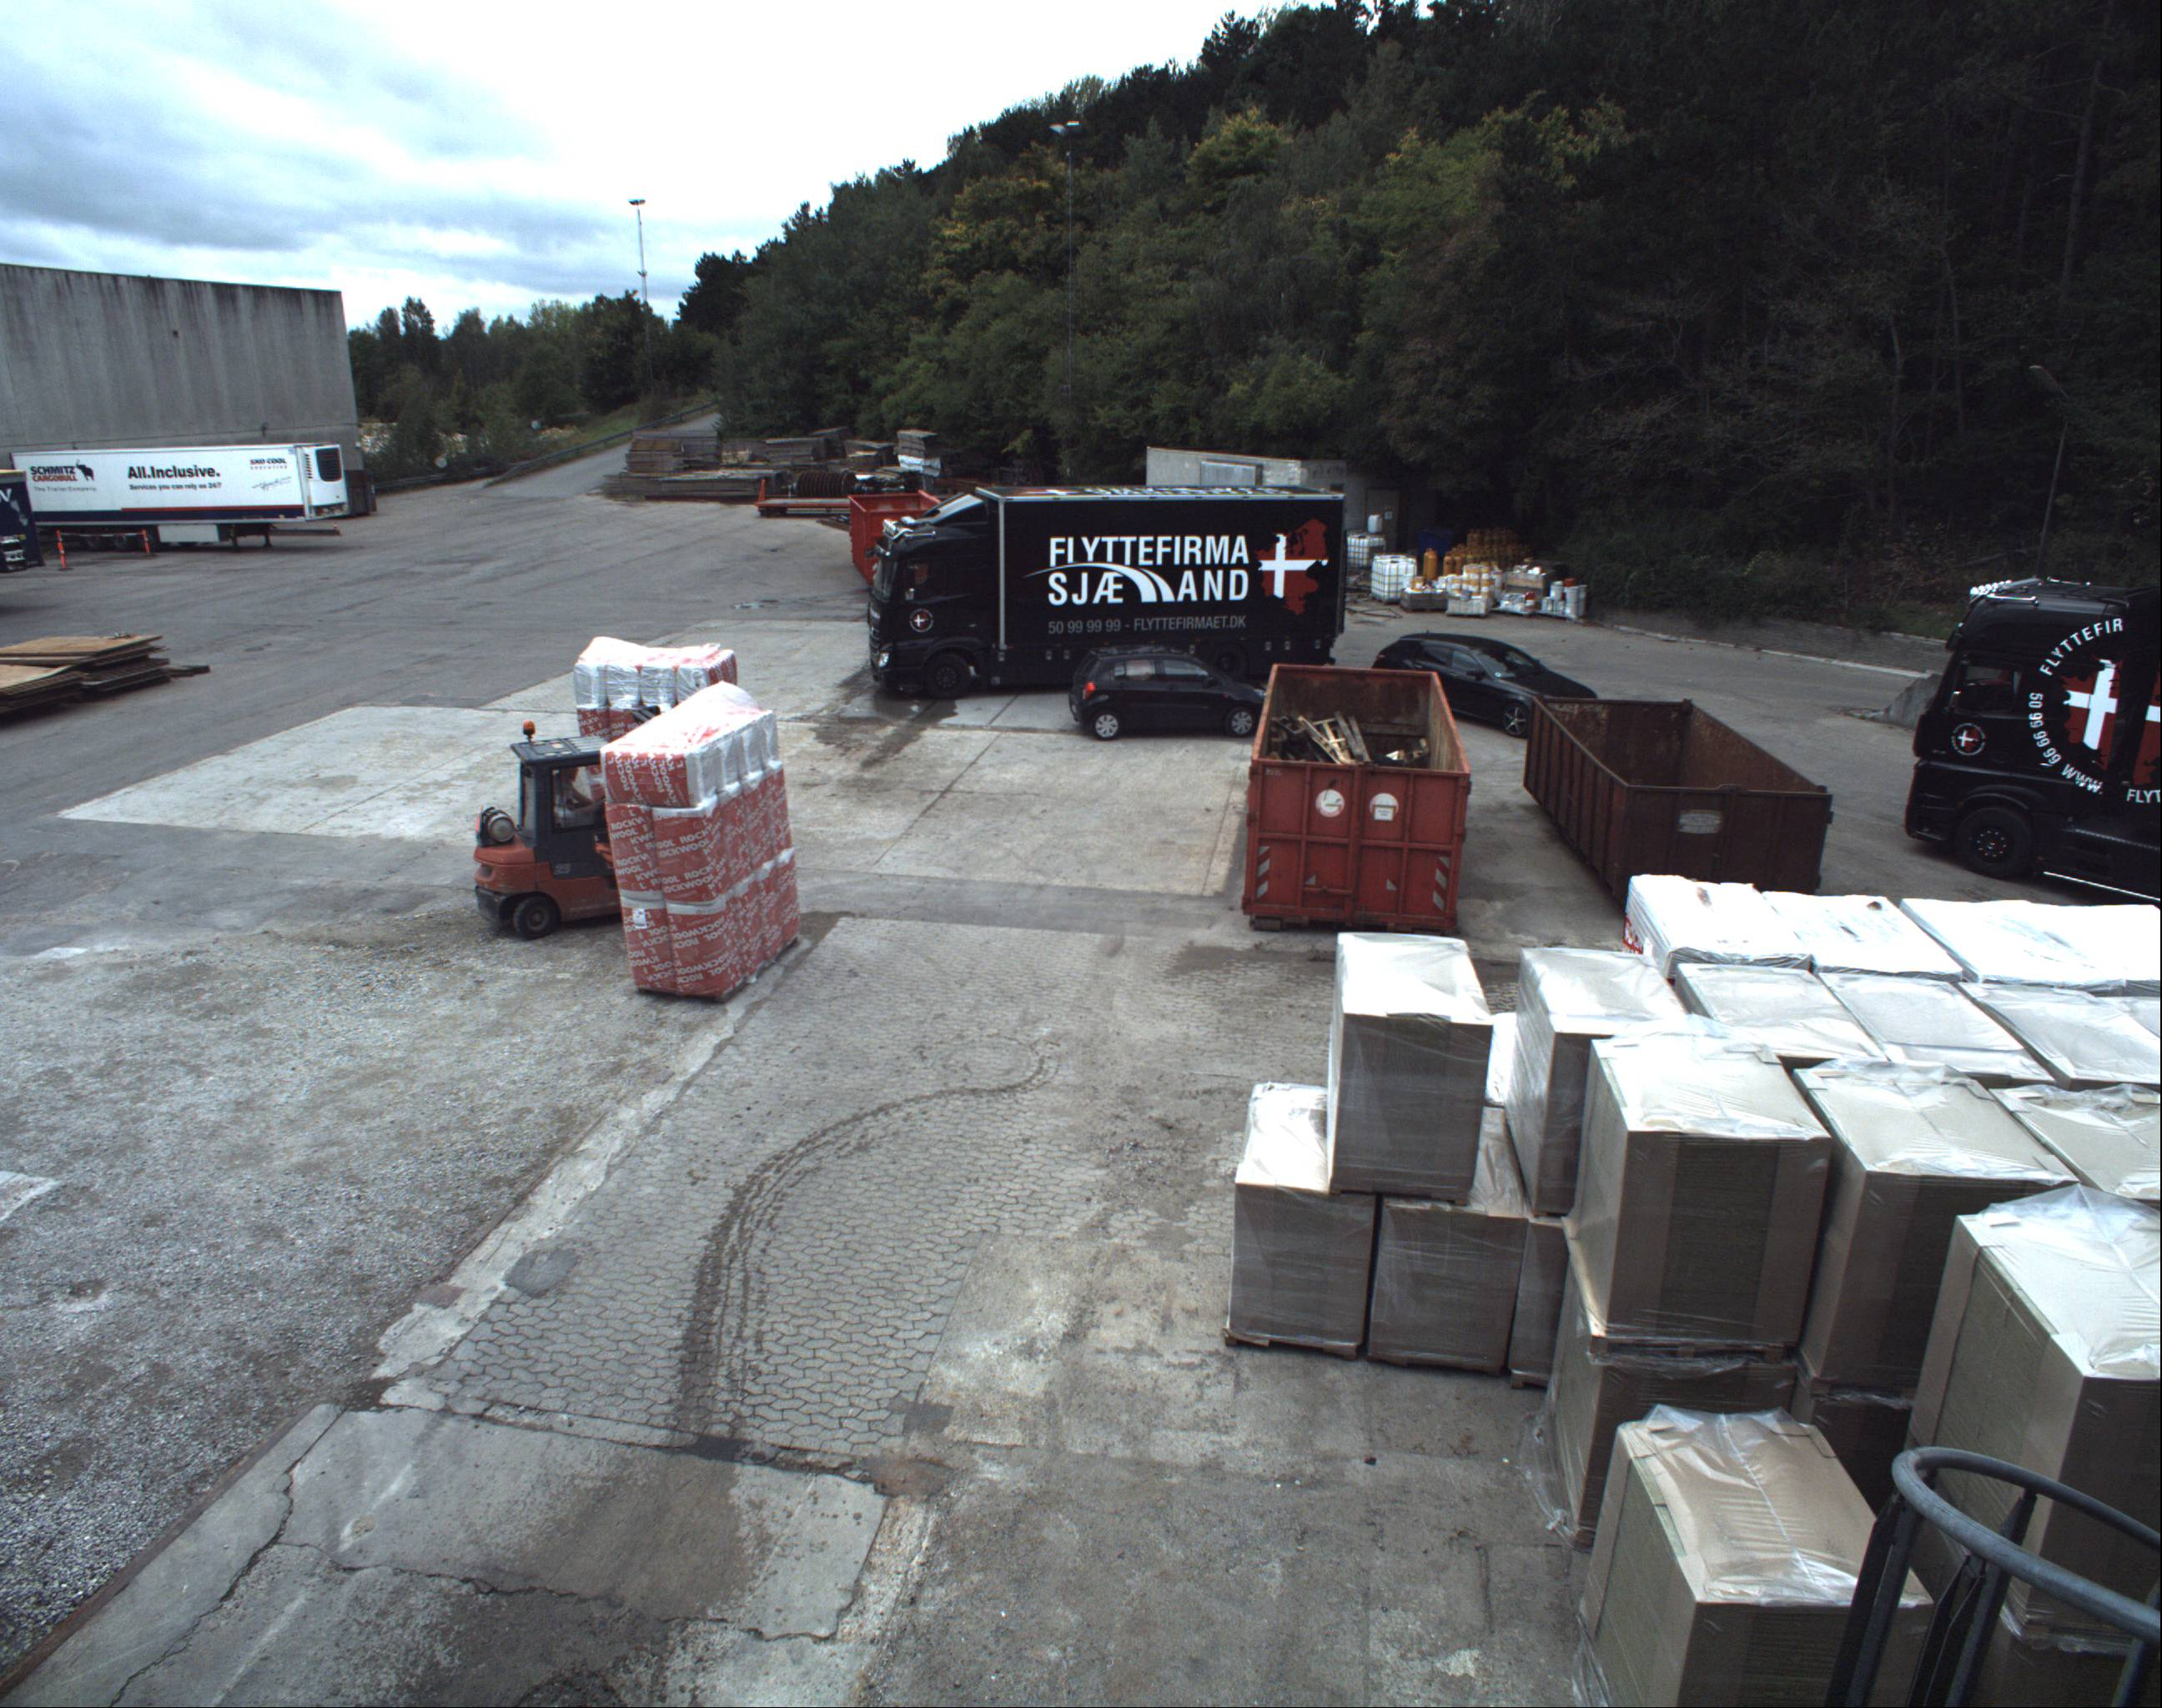rockwool_batts: (598, 706, 795, 1004), (572, 618, 735, 809)
